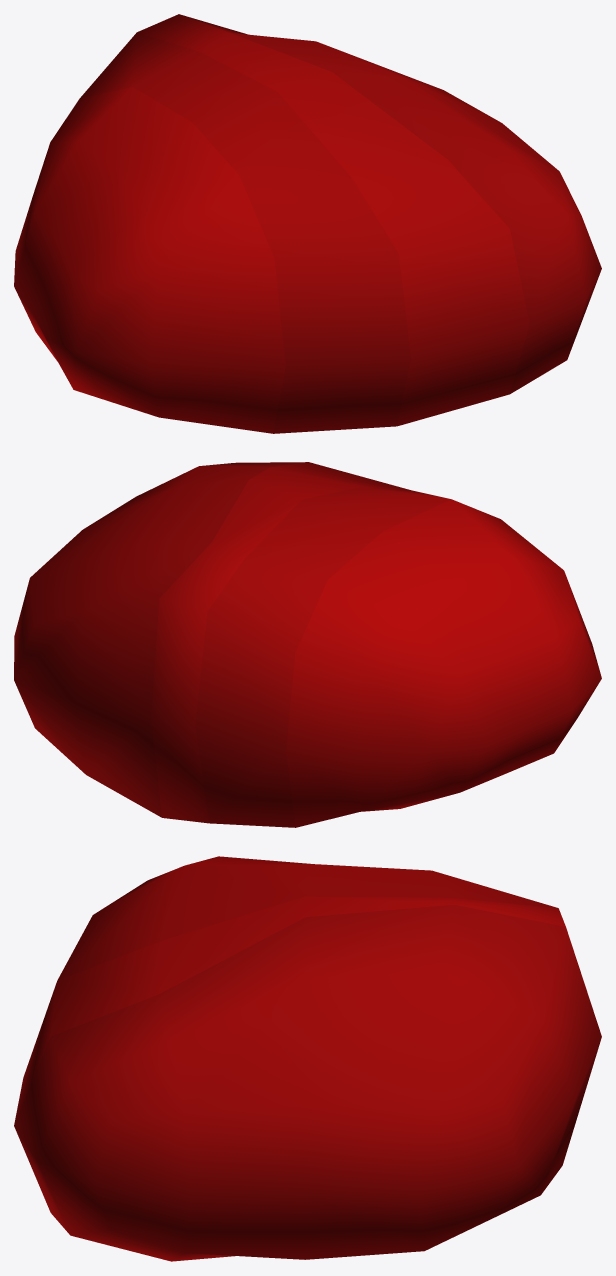
The model's file is geology-pebbles-sandstonepebble_v2.fbx.
3 views of the same model, one above another, from view 1: azimuth 30°, elevation 25°; view 2: azimuth 150°, elevation 25°; view 3: azimuth 270°, elevation 25° (orthographic). The views are drawn at different scales.
Visible parts, largest first — view 1: SandstonePebble_v2; view 2: SandstonePebble_v2; view 3: SandstonePebble_v2.
Boxes of the visible parts, x1,y1,x2,y2 form: SandstonePebble_v2: (14,14,601,433); SandstonePebble_v2: (14,462,601,827); SandstonePebble_v2: (14,856,601,1261).
Bounding box in the file's own units: 10.91 × 5.92 × 10.49.
